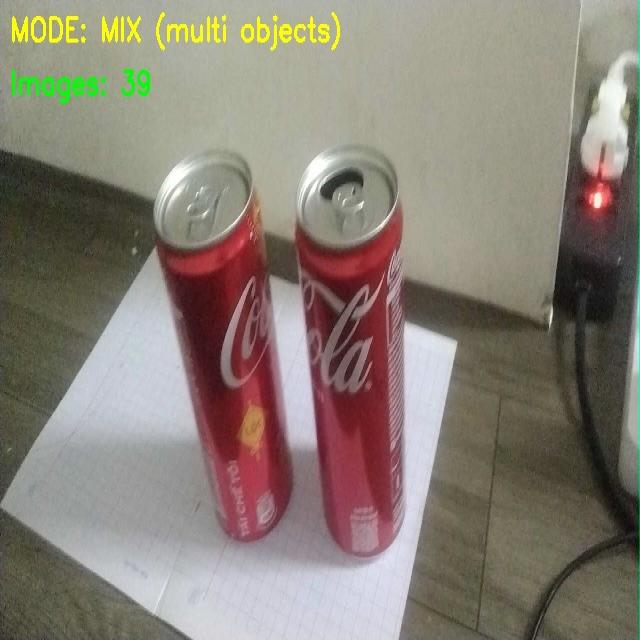Coca: (152, 131, 312, 587)
Coca_open: (296, 136, 461, 584)
